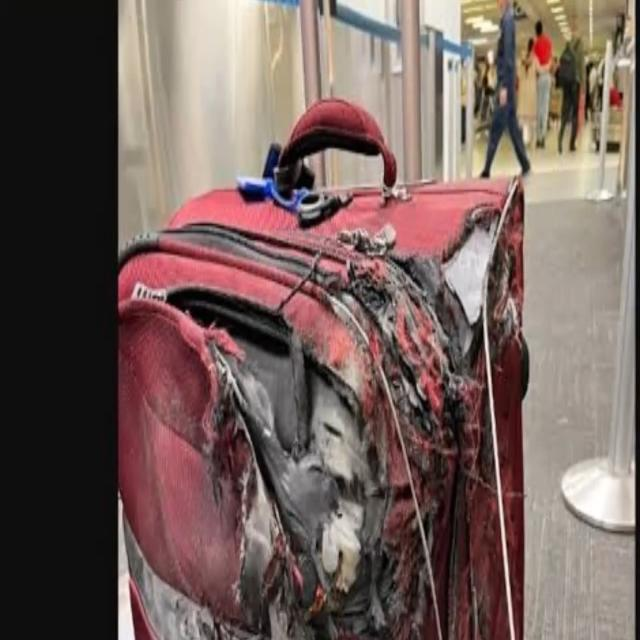Damage-bag: (119, 180, 529, 638)
